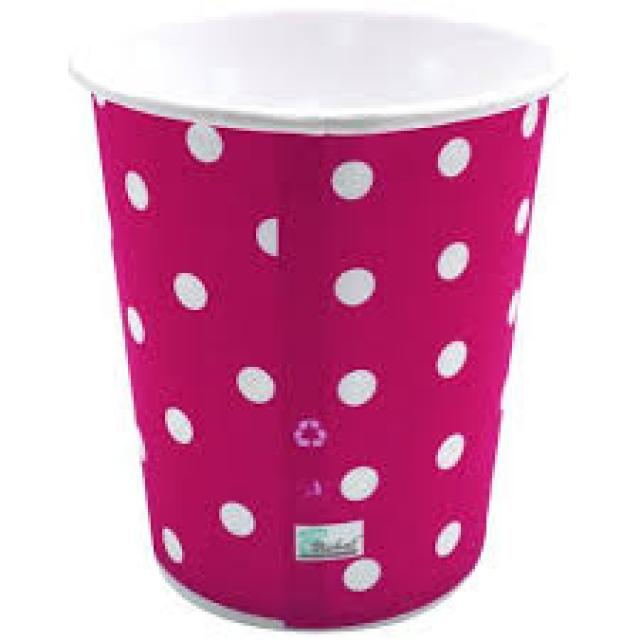PaperCardboard: (67, 0, 565, 622)
